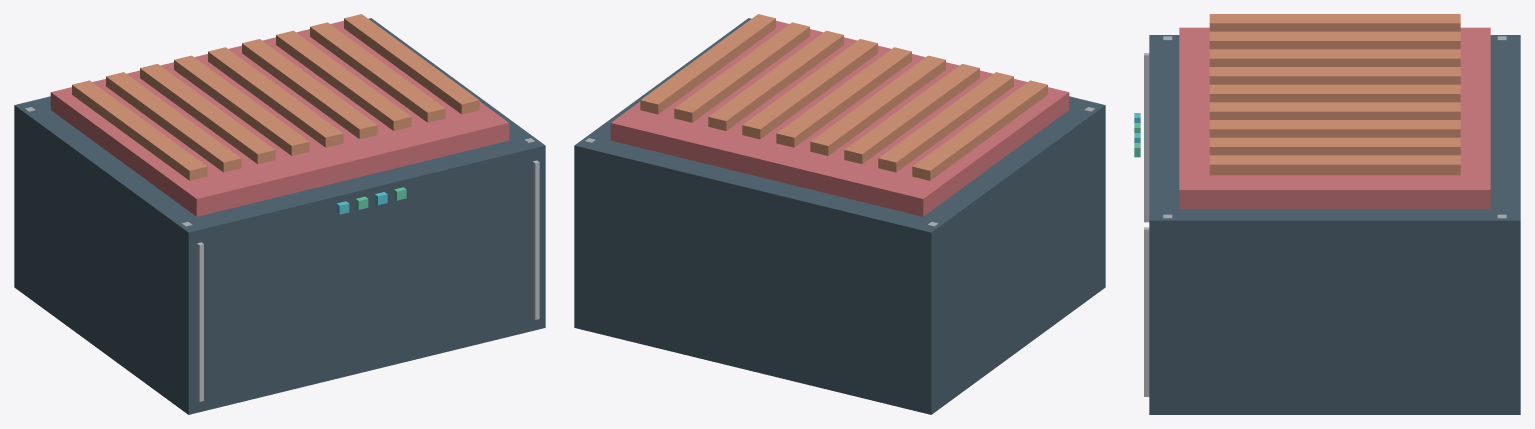
The model's file is 58_L79_ChipletRejectQuarantineBin.glb.
3 renders of one model, left to right at view 1: azimuth 30°, elevation 25°; view 2: azimuth 150°, elevation 25°; view 3: azimuth 270°, elevation 25°, orthographic. The views are drawn at different scales.
Parts seen in each view (by area): view 1: ChipletRejectQuarantineBin_Node_0000, ChipletRejectQuarantineBin_Node_0007, ChipletRejectQuarantineBin_Node_0015, ChipletRejectQuarantineBin_Node_0010, ChipletRejectQuarantineBin_Node_0016, ChipletRejectQuarantineBin_Node_0009, ChipletRejectQuarantineBin_Node_0011, ChipletRejectQuarantineBin_Node_0014, ChipletRejectQuarantineBin_Node_0012, ChipletRejectQuarantineBin_Node_0013, ChipletRejectQuarantineBin_Node_0008, ChipletRejectQuarantineBin_Node_0006 (+1 smaller); view 2: ChipletRejectQuarantineBin_Node_0000, ChipletRejectQuarantineBin_Node_0007, ChipletRejectQuarantineBin_Node_0015, ChipletRejectQuarantineBin_Node_0010, ChipletRejectQuarantineBin_Node_0016, ChipletRejectQuarantineBin_Node_0009, ChipletRejectQuarantineBin_Node_0011, ChipletRejectQuarantineBin_Node_0014, ChipletRejectQuarantineBin_Node_0012, ChipletRejectQuarantineBin_Node_0013, ChipletRejectQuarantineBin_Node_0008; view 3: ChipletRejectQuarantineBin_Node_0000, ChipletRejectQuarantineBin_Node_0007, ChipletRejectQuarantineBin_Node_0016, ChipletRejectQuarantineBin_Node_0009, ChipletRejectQuarantineBin_Node_0012, ChipletRejectQuarantineBin_Node_0015, ChipletRejectQuarantineBin_Node_0008, ChipletRejectQuarantineBin_Node_0010, ChipletRejectQuarantineBin_Node_0011, ChipletRejectQuarantineBin_Node_0013, ChipletRejectQuarantineBin_Node_0014, ChipletRejectQuarantineBin_Node_0006 (+1 smaller).
Boxes of the visible parts, x1=… form: ChipletRejectQuarantineBin_Node_0000: x1=14, y1=18, x2=545, y2=414; ChipletRejectQuarantineBin_Node_0007: x1=50, y1=20, x2=509, y2=216; ChipletRejectQuarantineBin_Node_0015: x1=310, y1=22, x2=445, y2=122; ChipletRejectQuarantineBin_Node_0010: x1=140, y1=64, x2=275, y2=164; ChipletRejectQuarantineBin_Node_0016: x1=344, y1=14, x2=479, y2=114; ChipletRejectQuarantineBin_Node_0009: x1=106, y1=72, x2=241, y2=172; ChipletRejectQuarantineBin_Node_0011: x1=174, y1=55, x2=309, y2=155; ChipletRejectQuarantineBin_Node_0014: x1=276, y1=30, x2=411, y2=130; ChipletRejectQuarantineBin_Node_0012: x1=208, y1=47, x2=343, y2=147; ChipletRejectQuarantineBin_Node_0013: x1=242, y1=39, x2=377, y2=139; ChipletRejectQuarantineBin_Node_0008: x1=72, y1=80, x2=207, y2=180; ChipletRejectQuarantineBin_Node_0006: x1=532, y1=160, x2=539, y2=319; ChipletRejectQuarantineBin_Node_0000: x1=574, y1=18, x2=1105, y2=414; ChipletRejectQuarantineBin_Node_0007: x1=610, y1=20, x2=1069, y2=216; ChipletRejectQuarantineBin_Node_0015: x1=674, y1=22, x2=809, y2=122; ChipletRejectQuarantineBin_Node_0010: x1=844, y1=64, x2=979, y2=164; ChipletRejectQuarantineBin_Node_0016: x1=640, y1=14, x2=775, y2=114; ChipletRejectQuarantineBin_Node_0009: x1=878, y1=72, x2=1013, y2=172; ChipletRejectQuarantineBin_Node_0011: x1=810, y1=55, x2=945, y2=155; ChipletRejectQuarantineBin_Node_0014: x1=708, y1=30, x2=843, y2=130; ChipletRejectQuarantineBin_Node_0012: x1=776, y1=47, x2=911, y2=147; ChipletRejectQuarantineBin_Node_0013: x1=742, y1=39, x2=877, y2=139; ChipletRejectQuarantineBin_Node_0008: x1=912, y1=80, x2=1047, y2=180; ChipletRejectQuarantineBin_Node_0000: x1=1149, y1=35, x2=1520, y2=414; ChipletRejectQuarantineBin_Node_0007: x1=1179, y1=27, x2=1490, y2=208; ChipletRejectQuarantineBin_Node_0016: x1=1209, y1=155, x2=1460, y2=175; ChipletRejectQuarantineBin_Node_0009: x1=1209, y1=31, x2=1460, y2=49; ChipletRejectQuarantineBin_Node_0012: x1=1209, y1=84, x2=1460, y2=102; ChipletRejectQuarantineBin_Node_0015: x1=1209, y1=137, x2=1460, y2=155; ChipletRejectQuarantineBin_Node_0008: x1=1209, y1=14, x2=1460, y2=31; ChipletRejectQuarantineBin_Node_0010: x1=1209, y1=49, x2=1460, y2=66; ChipletRejectQuarantineBin_Node_0011: x1=1209, y1=67, x2=1460, y2=84; ChipletRejectQuarantineBin_Node_0013: x1=1209, y1=102, x2=1460, y2=119; ChipletRejectQuarantineBin_Node_0014: x1=1209, y1=120, x2=1460, y2=137; ChipletRejectQuarantineBin_Node_0006: x1=1144, y1=227, x2=1149, y2=396.
Bounding box in the file's own units: 1.68 × 0.9725 × 1.48.
